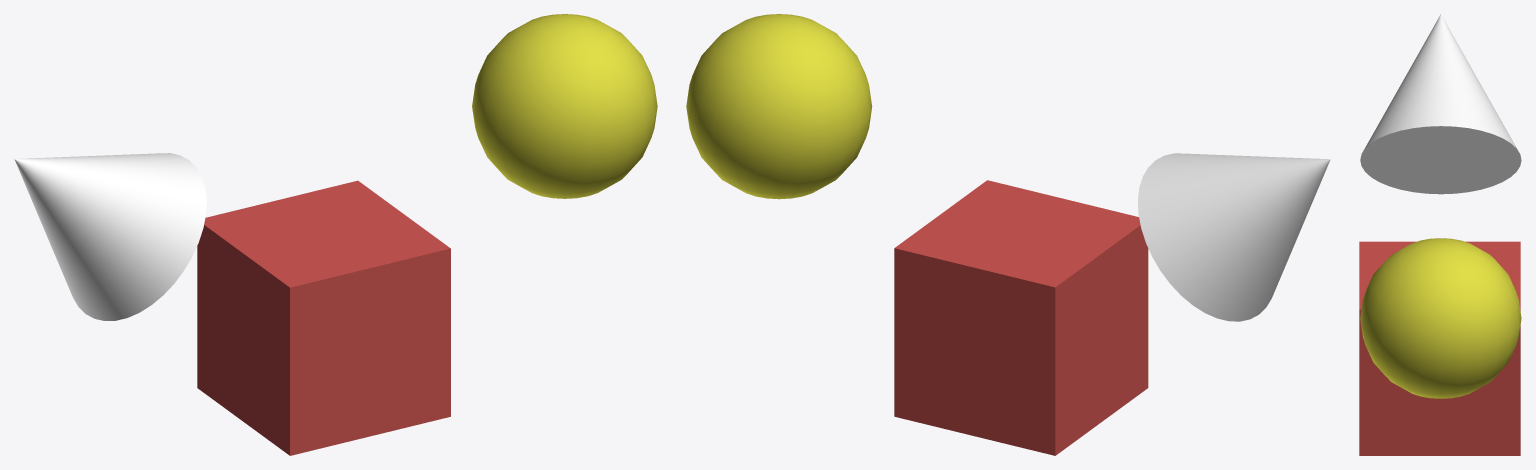
3 renders of one model, left to right at view 1: azimuth 30°, elevation 25°; view 2: azimuth 150°, elevation 25°; view 3: azimuth 270°, elevation 25°, orthographic. The views are drawn at different scales.
Parts seen in each view (by area): view 1: 立方体, 球体, 圆锥; view 2: 立方体, 球体, 圆锥; view 3: 球体, 圆锥, 立方体.
Boxes of the visible parts, x1,y1,x2,y2 form: 立方体: (197,180,450,455); 球体: (472,14,657,198); 圆锥: (14,153,206,320); 立方体: (894,180,1148,455); 球体: (686,14,872,199); 圆锥: (1138,153,1330,321); 球体: (1360,238,1521,398); 圆锥: (1360,14,1521,194); 立方体: (1359,241,1520,455).
Bounding box in the file's own units: 785 × 381 × 201.
